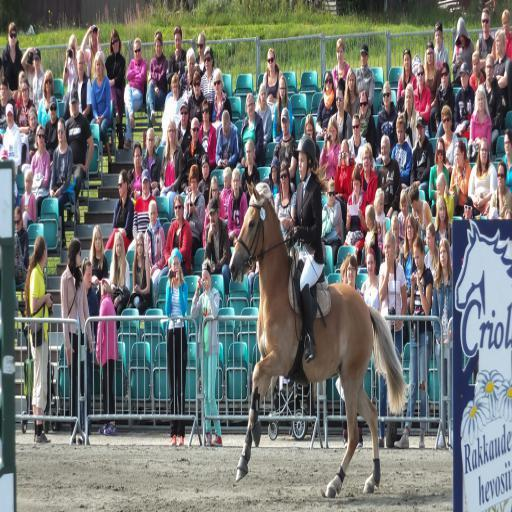horse: (229, 175, 414, 496)
